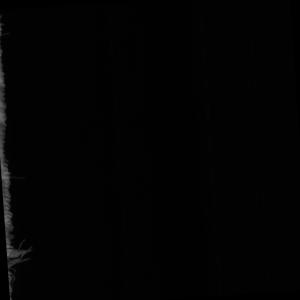Damage: (1, 10, 42, 300)
